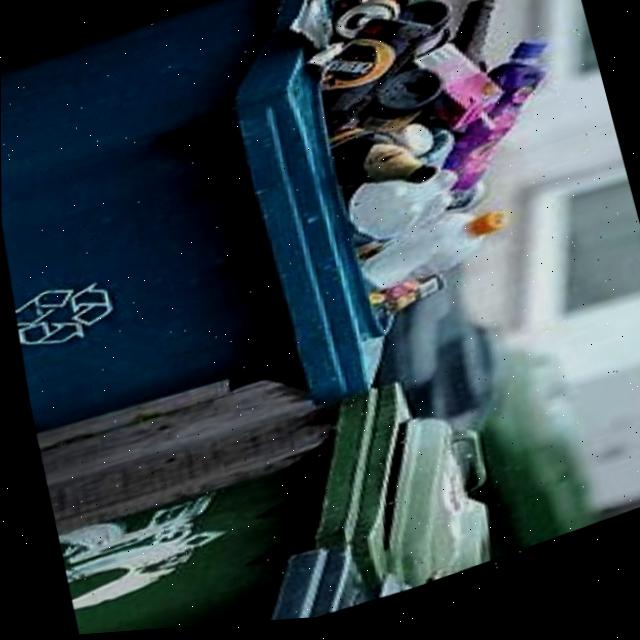Garbage: (301, 0, 544, 328)
Glass_bottle: (316, 31, 425, 142), (322, 132, 432, 194), (353, 80, 436, 144), (446, 12, 490, 83), (394, 12, 447, 68)
Light bulbs: (329, 0, 386, 20)
Plastic: (382, 134, 428, 168)
Plastic_bottle: (440, 53, 544, 219), (356, 223, 502, 304), (338, 182, 452, 254), (414, 137, 451, 179)
Tetrapack: (408, 56, 498, 144), (366, 285, 442, 324)
can: (328, 8, 394, 50), (378, 1, 409, 18)
